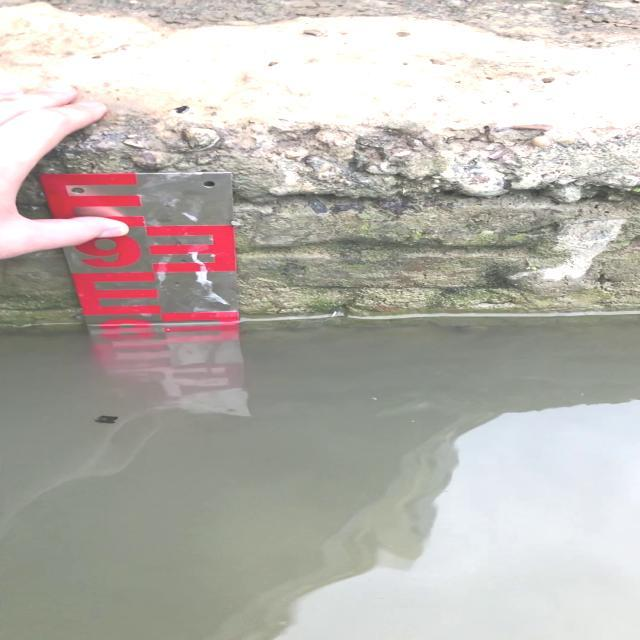ruler: (28, 158, 258, 358)
value: (56, 215, 152, 276)
